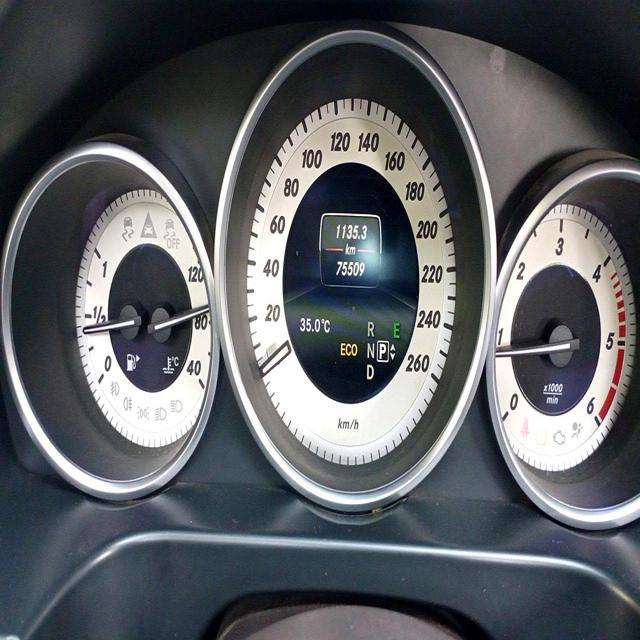odometer: (332, 256, 367, 281)
